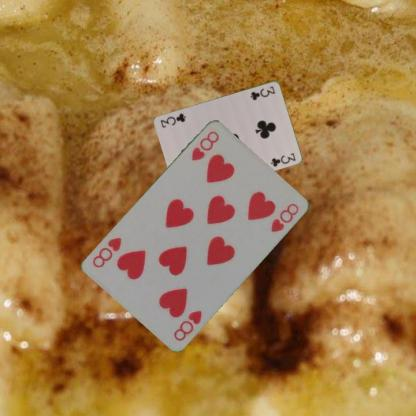3c: (248, 83, 276, 101)
8h: (188, 127, 221, 162), (171, 307, 204, 342)
